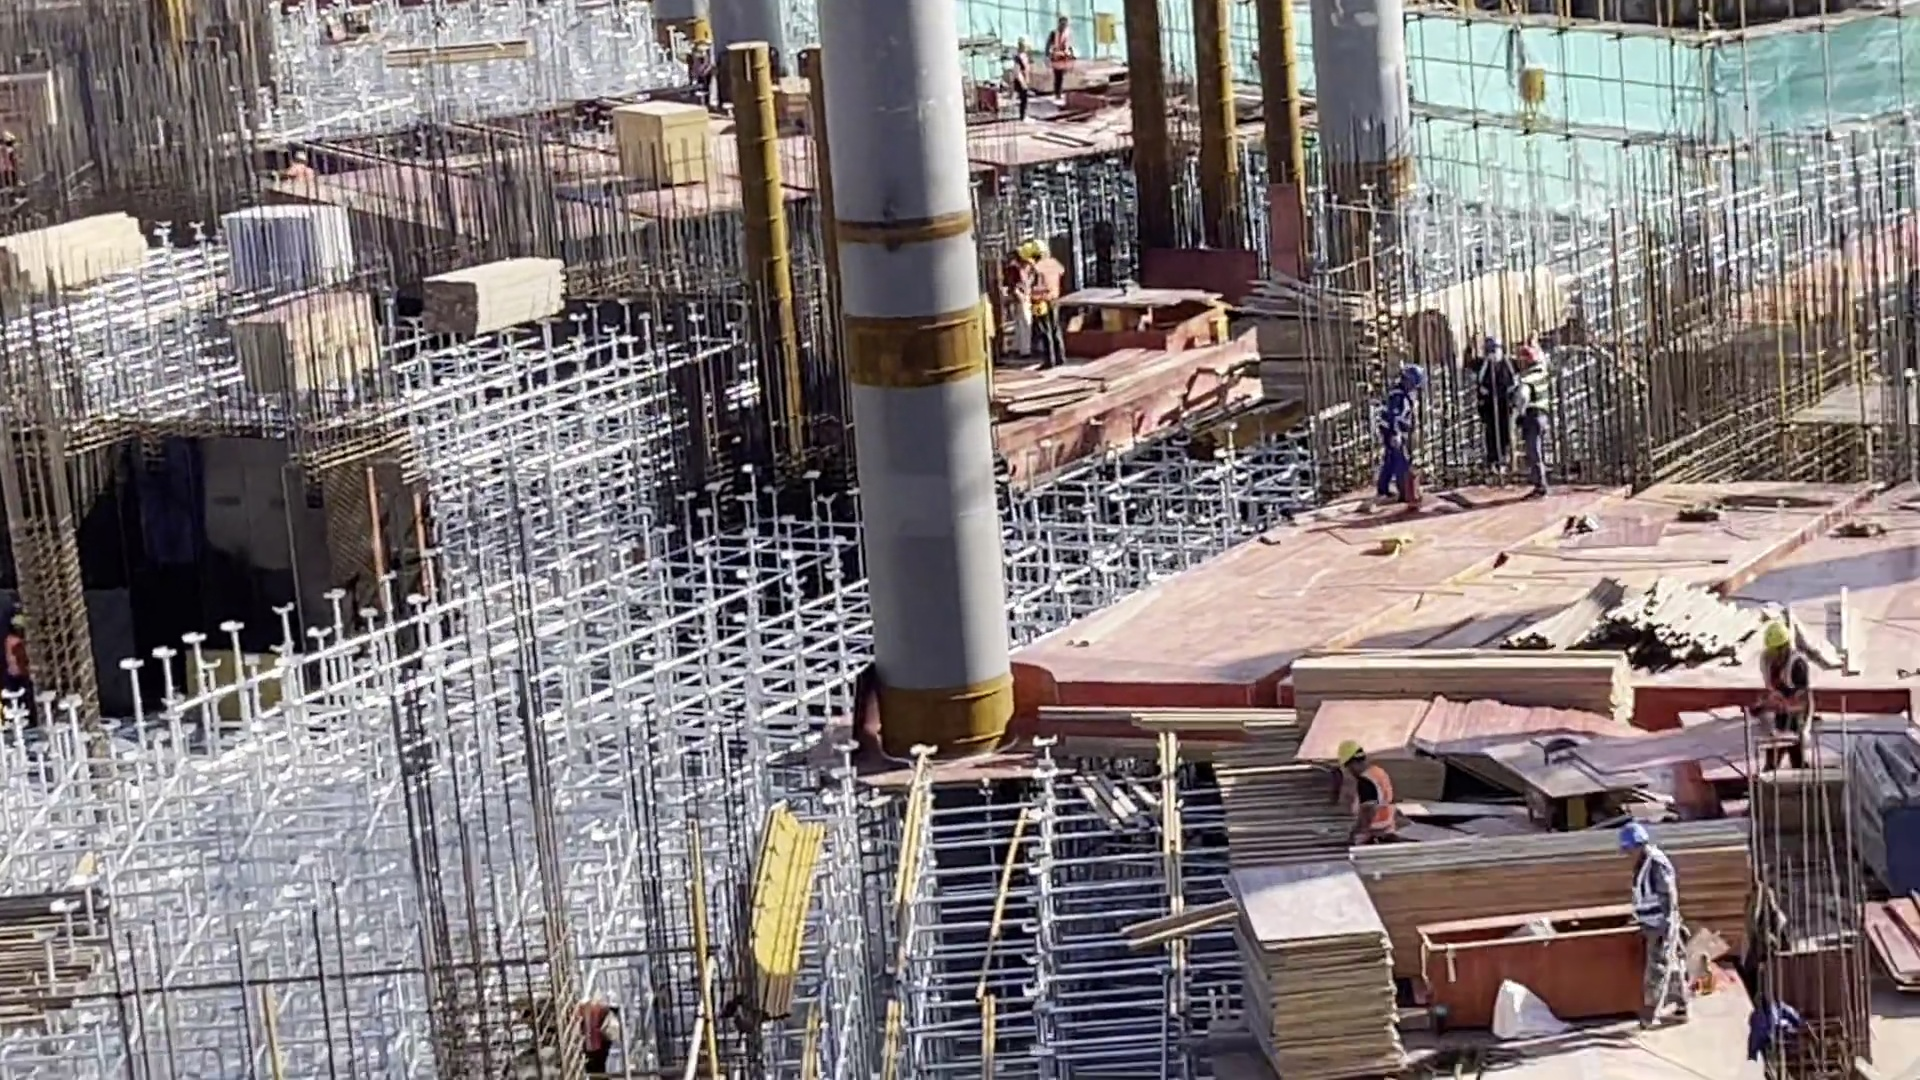board: (1231, 855, 1405, 1080), (1352, 826, 1751, 919), (235, 286, 381, 392), (611, 97, 715, 196)
cutter: (1483, 729, 1652, 828), (1061, 278, 1224, 356)
ebox: (1515, 65, 1548, 108), (1093, 10, 1120, 51)
helmet: (1616, 822, 1649, 849), (1764, 620, 1789, 645), (1513, 344, 1540, 366), (1013, 242, 1035, 266), (1400, 367, 1426, 386), (1339, 741, 1358, 764)
person: (1617, 822, 1694, 1031), (1757, 620, 1811, 775), (1468, 336, 1521, 480), (1378, 364, 1428, 504), (1337, 741, 1398, 843), (1511, 343, 1551, 496), (1029, 239, 1070, 373), (1043, 13, 1079, 109), (1004, 245, 1035, 354), (3, 613, 26, 691), (1012, 34, 1033, 120), (1, 130, 20, 206), (281, 150, 318, 182)
rebar: (1, 878, 116, 1045)
vest: (1762, 654, 1814, 724), (1630, 854, 1675, 933), (1353, 769, 1398, 826), (1380, 387, 1415, 452), (1033, 256, 1061, 308), (1522, 369, 1551, 417), (1475, 360, 1500, 409), (1001, 255, 1026, 303), (1048, 30, 1073, 71), (1014, 52, 1030, 83)
wood: (1280, 641, 1635, 724), (1499, 578, 1751, 668), (1401, 263, 1560, 358), (420, 251, 566, 336), (2, 215, 149, 292), (378, 38, 533, 63)
